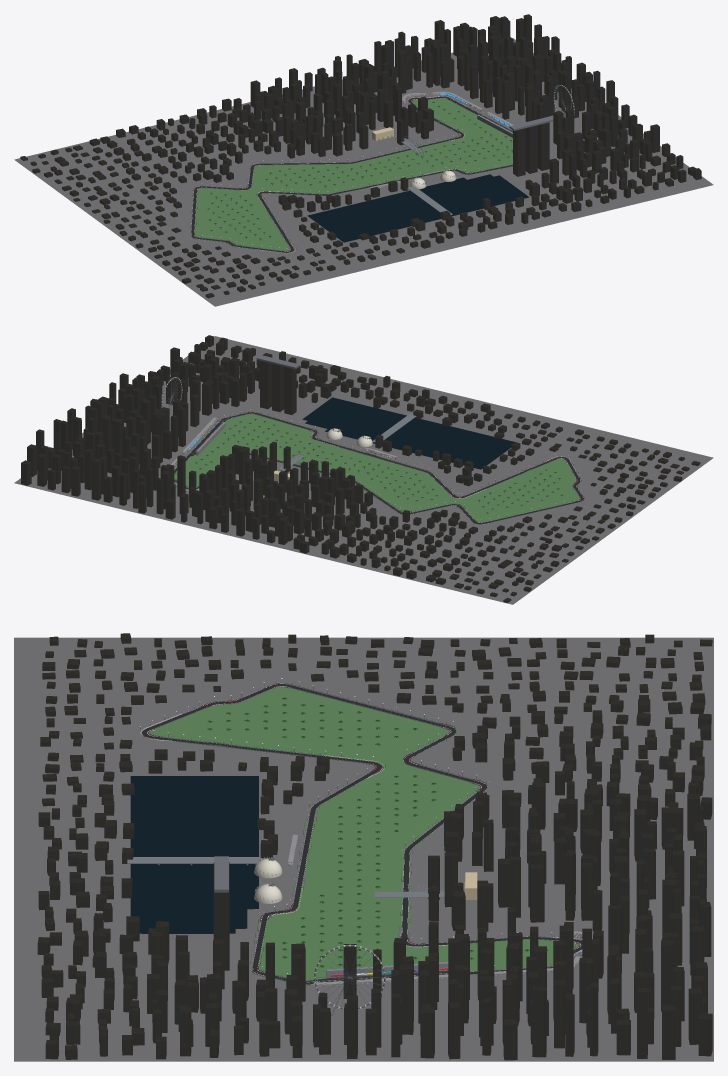
Rendered from marina.glb.
3 renders of one model, top to bottom at view 1: azimuth 30°, elevation 25°; view 2: azimuth 150°, elevation 25°; view 3: azimuth 270°, elevation 25°, orthographic. The views are drawn at different scales.
Visible parts, largest first — view 1: Небоскрёбы — фасад, Земля города, Залив, Полотно трассы, Марина Бэй Сэндс — башни, Стена слева (внутренний контур), Стена справа (внешний контур), Пальмы — листва; view 2: Небоскрёбы — фасад, Земля города, Залив, Полотно трассы, Марина Бэй Сэндс — башни, Стена справа (внешний контур), Пальмы — листва, Стена слева (внутренний контур); view 3: Земля города, Небоскрёбы — фасад, Залив, Полотно трассы, Пальмы — листва, Стена справа (внешний контур), Стена слева (внутренний контур), Марина Бэй Сэндс — башни, Эспланада — купола, Колесо обозрения — ферма, Мост Эспланада — пролёт.
Part boxes in pixels (bbox=[...]): Небоскрёбы — фасад: bbox=[20, 14, 701, 298]; Земля города: bbox=[14, 38, 713, 306]; Залив: bbox=[307, 174, 528, 242]; Полотно трассы: bbox=[191, 96, 512, 252]; Марина Бэй Сэндс — башни: bbox=[513, 122, 549, 176]; Стена слева (внутренний контур): bbox=[194, 98, 512, 251]; Стена справа (внешний контур): bbox=[190, 107, 512, 249]; Пальмы — листва: bbox=[207, 102, 512, 239]; Небоскрёбы — фасад: bbox=[21, 335, 700, 602]; Земля города: bbox=[14, 336, 713, 604]; Залив: bbox=[302, 397, 515, 469]; Полотно трассы: bbox=[174, 412, 584, 524]; Марина Бэй Сэндс — башни: bbox=[260, 360, 296, 414]; Стена справа (внешний контур): bbox=[186, 411, 584, 524]; Пальмы — листва: bbox=[188, 419, 562, 513]; Стена слева (внутренний контур): bbox=[174, 413, 579, 522]; Земля города: bbox=[14, 637, 713, 1061]; Небоскрёбы — фасад: bbox=[37, 633, 712, 1060]; Залив: bbox=[130, 776, 258, 933]; Полотно трассы: bbox=[142, 683, 582, 984]; Пальмы — листва: bbox=[207, 697, 547, 967]; Стена справа (внешний контур): bbox=[173, 682, 552, 985]; Стена слева (внутренний контур): bbox=[149, 686, 579, 977]; Марина Бэй Сэндс — башни: bbox=[213, 862, 229, 970]; Эспланада — купола: bbox=[254, 858, 282, 903]; Колесо обозрения — ферма: bbox=[314, 945, 385, 1015]; Мост Эспланада — пролёт: bbox=[127, 857, 262, 863].
Bounding box in the file's own units: 2150 × 200 × 1500.
Materials: 27 (2 with a texture image).
